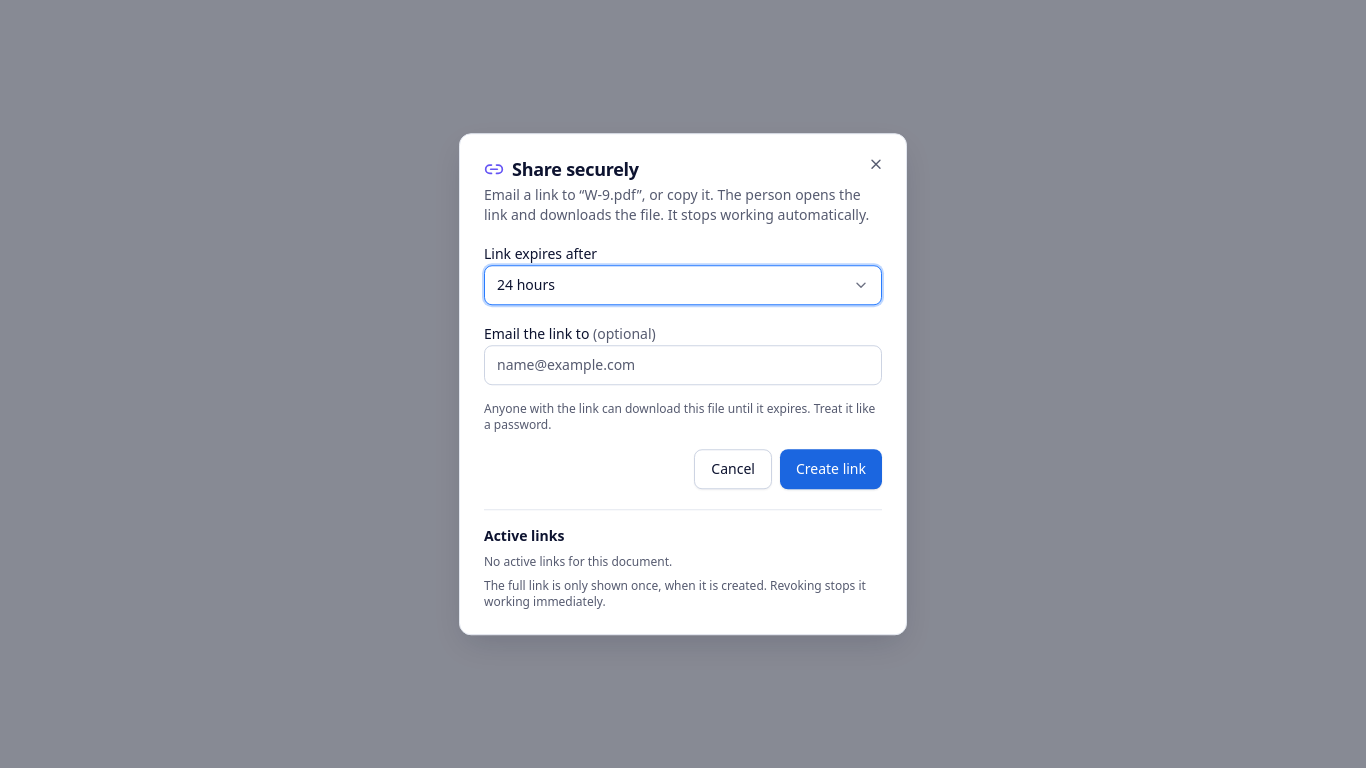
Test case: ShareDialog: email the link › sends the address and note, and says who it went to
Type "pat@acme.com" into the field labelled "Email the link to (optional)" at x=683, y=365, box [484, 345, 882, 385]
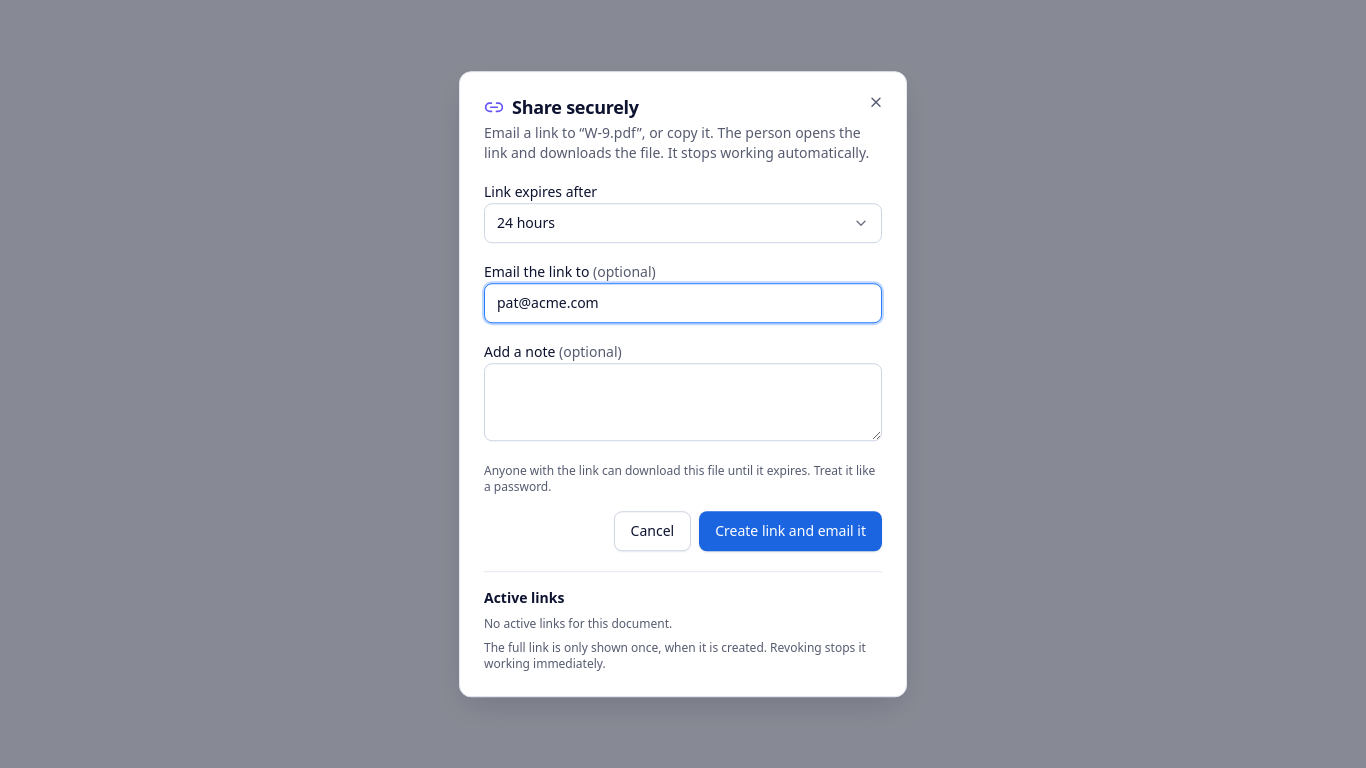
Type "Here you go" into the text box labelled "Add a note (optional)" at x=683, y=402, box [484, 363, 882, 441]
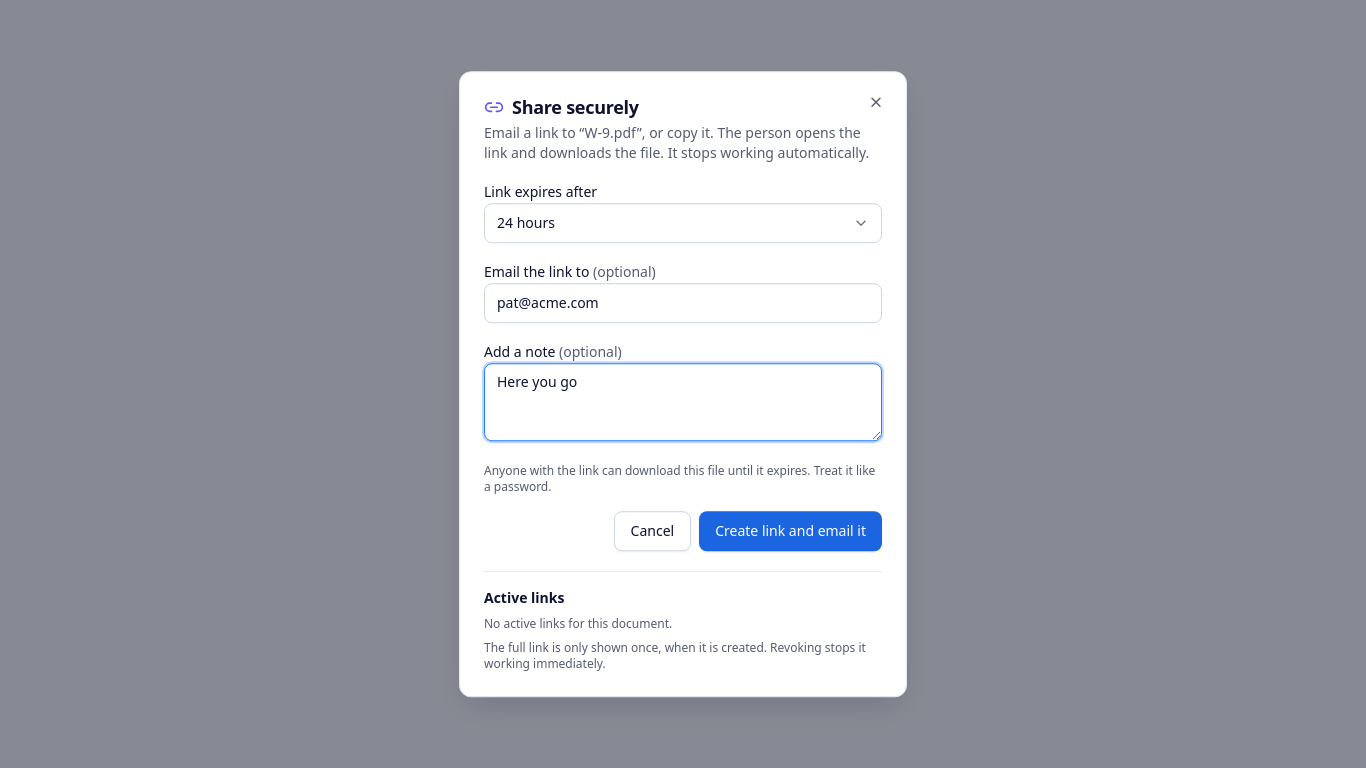
Click the button "Create link and email it" at x=791, y=531, box [699, 511, 882, 551]
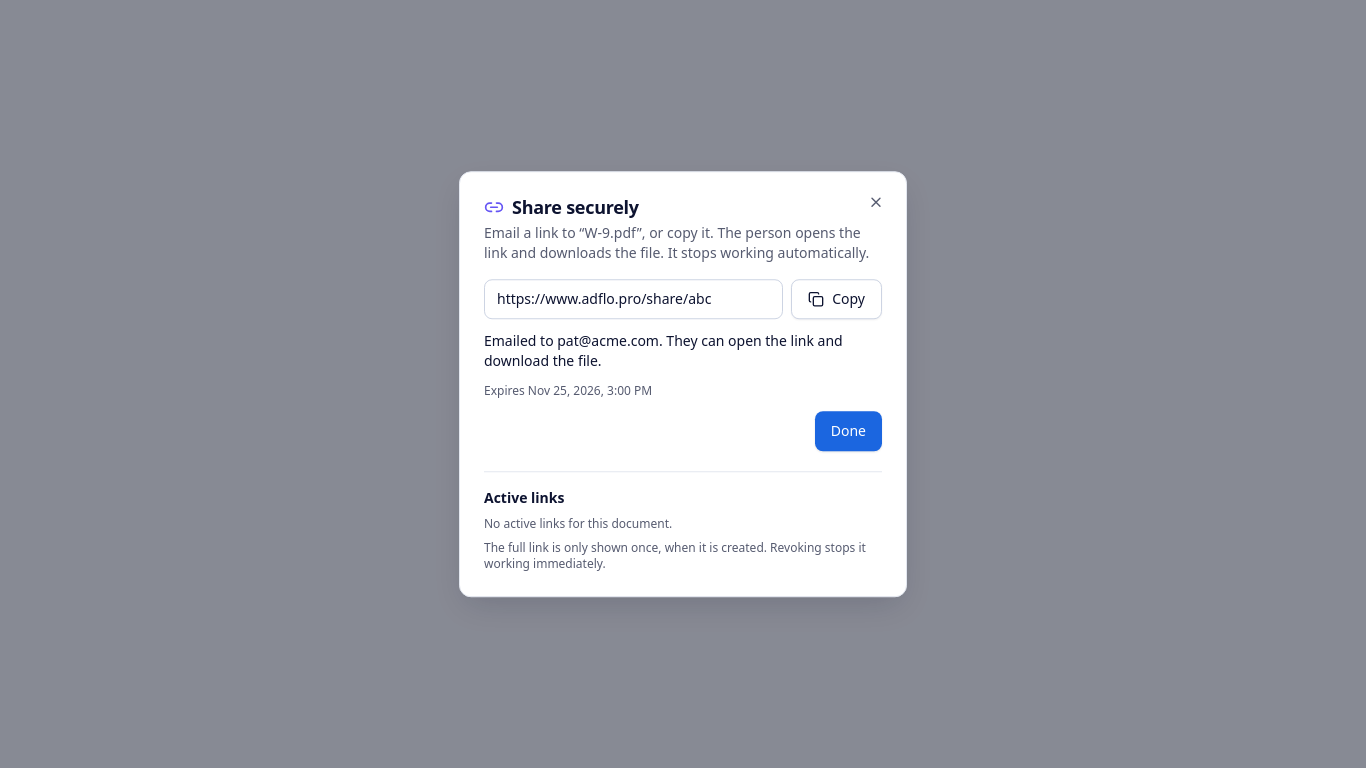
Result: the message shows "Emailed to pat@acme.com" at [484, 331, 843, 370]
Result: the field named "Share link" holds "https://www.adflo.pro/share/abc" at [484, 279, 783, 319]
